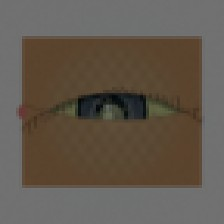corneal_ulcer: (86, 99, 136, 139)
